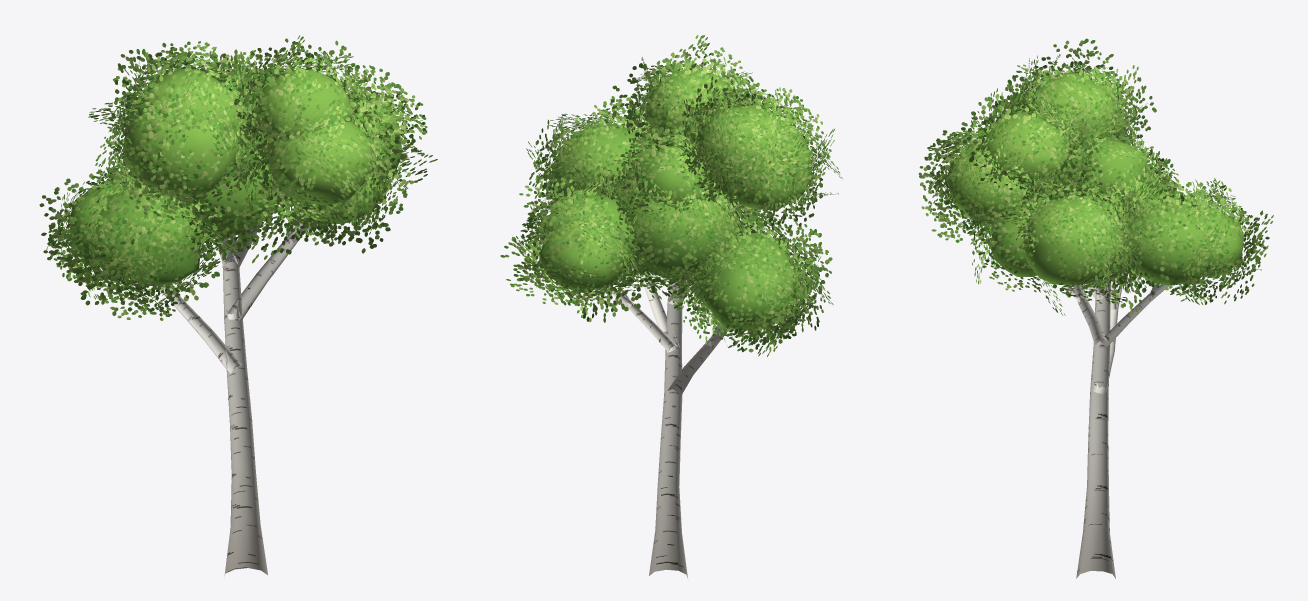
The model's file is tree_birch.glb.
3 views of the same model, side by side, from view 1: azimuth 30°, elevation 25°; view 2: azimuth 150°, elevation 25°; view 3: azimuth 270°, elevation 25° (orthographic). The views are drawn at different scales.
Parts seen in each view (by area): view 1: tree_birch, tree_birch_bark_Birch; view 2: tree_birch, tree_birch_bark_Birch; view 3: tree_birch, tree_birch_bark_Birch.
Part boxes in pixels (x1,y1,x2,y2): tree_birch: (39, 35, 437, 320); tree_birch_bark_Birch: (157, 189, 316, 577); tree_birch: (500, 35, 842, 356); tree_birch_bark_Birch: (608, 198, 739, 579); tree_birch: (918, 38, 1273, 315); tree_birch_bark_Birch: (1061, 273, 1168, 578).
Size of the model in its own units: 6.11 by 8.84 by 6.12.
Materials: 3 (2 with a texture image).
